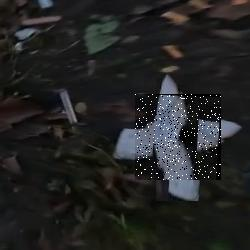restaffald: (135, 95, 221, 180)
